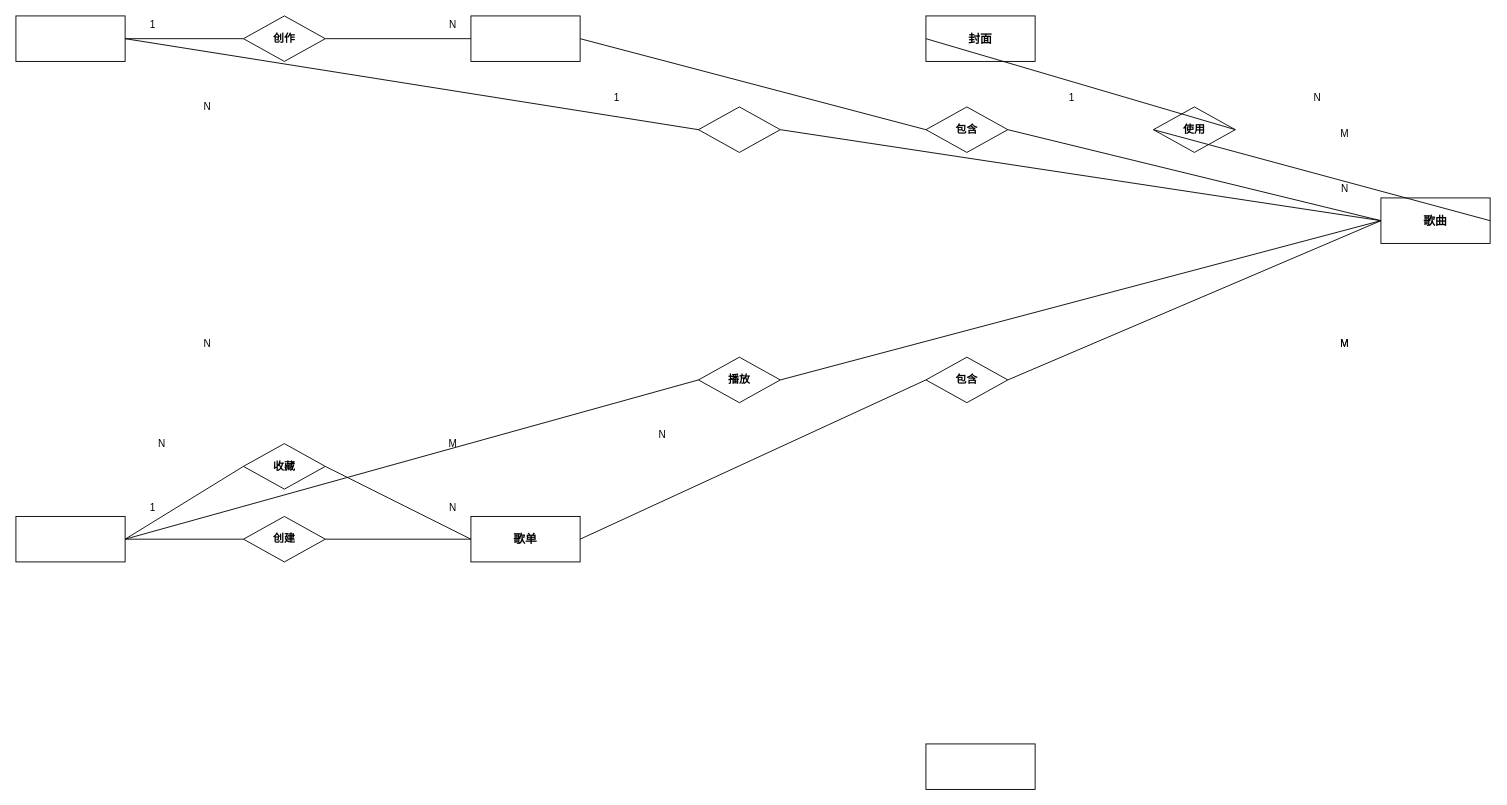
The diagram is 1507 pixels wide and 805 high, and some of its shapes have lost their labels. Each missing label, with the box of its shape:
专辑: (470, 15, 580, 61)
歌手: (15, 15, 125, 61)
演唱: (698, 106, 780, 152)
用户: (15, 516, 125, 562)
系统信息: (925, 743, 1035, 789)
